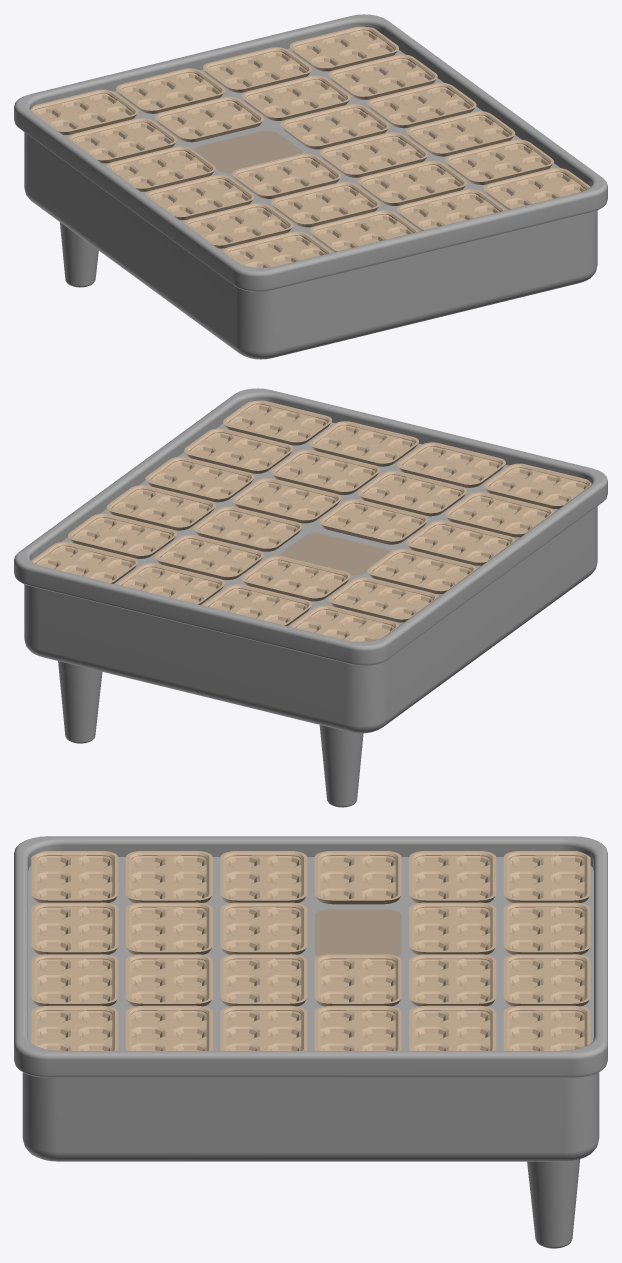
File: SM_Table_01a.fbx
The picture shows the model from 3 angles, top to bottom: view 1: azimuth 30°, elevation 25°; view 2: azimuth 150°, elevation 25°; view 3: azimuth 270°, elevation 25°; orthographic projection. The views are drawn at different scales.
Parts seen in each view (by area): view 1: SM_Table_01a; view 2: SM_Table_01a; view 3: SM_Table_01a.
Part boxes in pixels (x1=…): SM_Table_01a: x1=14, y1=14, x2=607, y2=359; SM_Table_01a: x1=14, y1=388, x2=607, y2=807; SM_Table_01a: x1=14, y1=836, x2=607, y2=1248.
Bounding box in the file's own units: 470 × 219 × 535.
